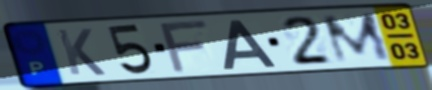2: (279, 14, 332, 67)
5: (104, 23, 154, 76)
A: (221, 18, 279, 71)
F: (157, 18, 212, 75)
K: (54, 27, 109, 77)
M: (318, 10, 395, 65)
